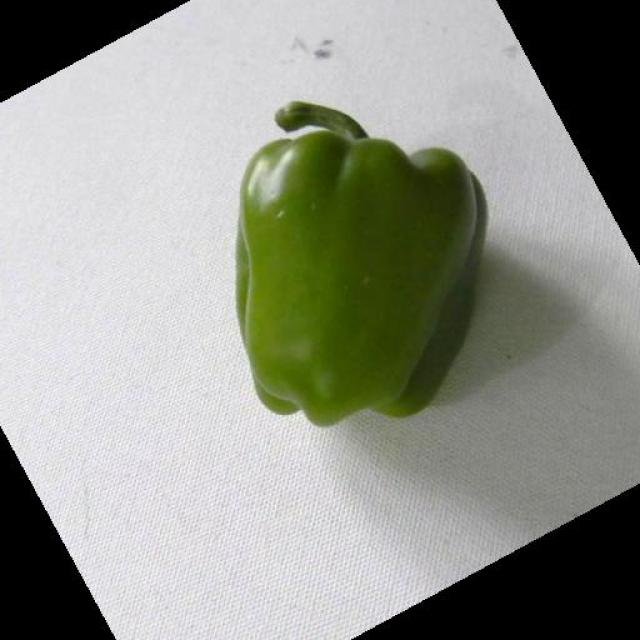Fresh_Capsicum: (225, 90, 487, 438)
